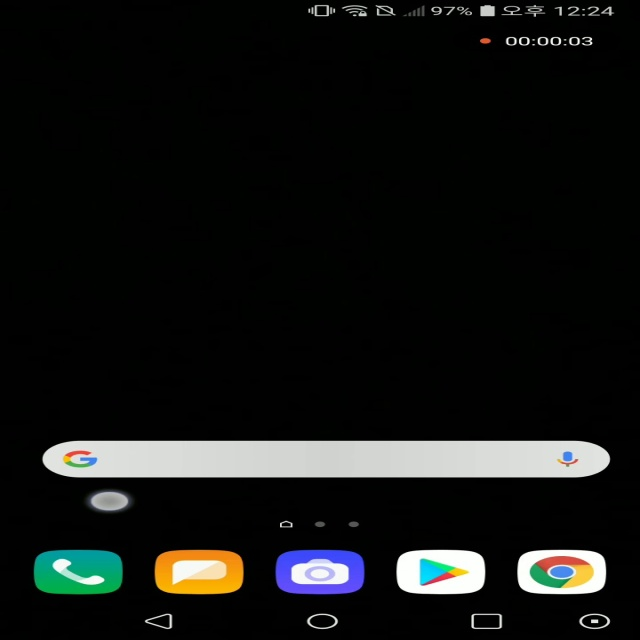Cursor: (88, 491, 132, 513)
